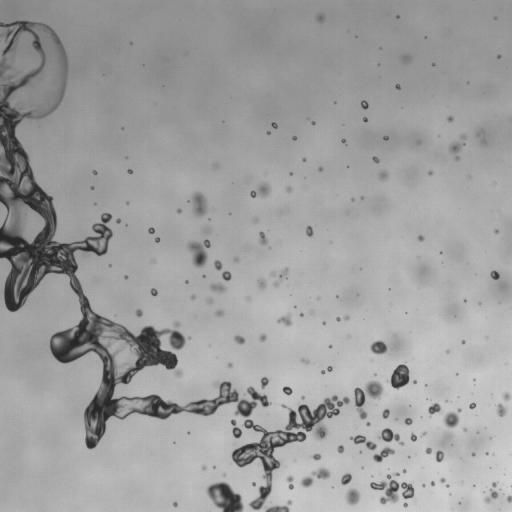droplet: (370, 472, 414, 504), (206, 481, 244, 511), (354, 381, 383, 419), (187, 239, 210, 267), (388, 364, 409, 389), (191, 191, 207, 217), (443, 408, 461, 428), (250, 182, 271, 197), (345, 488, 360, 505), (370, 340, 387, 354), (277, 313, 292, 326), (428, 403, 443, 416), (449, 142, 464, 153), (210, 283, 226, 292), (496, 403, 507, 416), (341, 473, 351, 485), (259, 231, 267, 244), (234, 335, 245, 344), (305, 225, 313, 237), (257, 279, 266, 289), (436, 451, 444, 462), (222, 271, 231, 280), (490, 270, 499, 279), (283, 386, 292, 395), (502, 392, 511, 401), (214, 260, 222, 270), (261, 377, 268, 388), (379, 171, 387, 180), (404, 417, 412, 425), (361, 100, 368, 109), (382, 409, 389, 418), (312, 453, 321, 460), (317, 14, 324, 22), (337, 445, 344, 453), (372, 156, 379, 163), (203, 227, 210, 234), (150, 288, 157, 295), (259, 334, 266, 341), (445, 432, 452, 439), (215, 310, 223, 316), (410, 433, 416, 441), (148, 227, 154, 234), (136, 309, 142, 316), (469, 403, 476, 409), (447, 116, 453, 122), (271, 122, 277, 128), (460, 134, 466, 140), (418, 235, 424, 241), (207, 298, 213, 304), (403, 56, 410, 61), (302, 358, 309, 363), (426, 447, 431, 454), (506, 495, 511, 502), (286, 186, 291, 192), (326, 366, 332, 371), (395, 84, 400, 89), (344, 315, 349, 320), (383, 136, 388, 140), (127, 169, 132, 173), (428, 171, 433, 175), (177, 208, 181, 213), (155, 237, 159, 242), (271, 271, 275, 276), (227, 363, 232, 367), (422, 431, 426, 436), (440, 478, 445, 482), (363, 117, 367, 121), (292, 136, 296, 140), (455, 156, 459, 160), (318, 167, 322, 171), (116, 219, 120, 223), (253, 219, 257, 223), (494, 229, 498, 233), (234, 257, 238, 261), (274, 282, 278, 286), (191, 295, 195, 299), (246, 296, 250, 300), (336, 317, 340, 321), (321, 370, 325, 374), (366, 422, 370, 426), (202, 466, 206, 470), (173, 502, 177, 506), (403, 503, 407, 507), (342, 139, 345, 143), (93, 170, 96, 174), (463, 427, 466, 431), (403, 469, 406, 473), (431, 481, 434, 485), (497, 55, 500, 58), (312, 121, 315, 124), (302, 158, 305, 161), (351, 198, 354, 201), (152, 260, 155, 263), (124, 275, 127, 278), (300, 313, 303, 316), (461, 340, 464, 343), (329, 345, 332, 348), (413, 380, 416, 383), (301, 396, 304, 399), (472, 453, 475, 456), (267, 131, 269, 134), (417, 141, 420, 143), (91, 186, 93, 189), (126, 202, 129, 204), (202, 275, 205, 277), (185, 281, 188, 283), (322, 322, 325, 324), (446, 350, 448, 353), (223, 473, 225, 476), (252, 483, 255, 485), (422, 484, 425, 486), (446, 484, 448, 487), (374, 373, 376, 375)
ligament: (0, 22, 349, 511), (300, 467, 330, 487), (377, 428, 403, 445), (350, 435, 376, 450), (373, 446, 394, 462), (484, 482, 498, 503), (230, 419, 242, 438), (286, 475, 293, 489), (279, 268, 287, 280)
